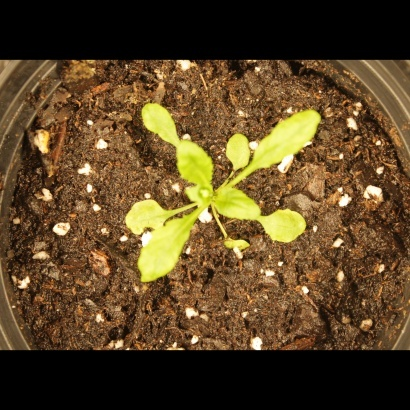leaf: (248, 104, 326, 173), (139, 216, 192, 286), (176, 136, 216, 193), (137, 98, 183, 147), (263, 204, 312, 247), (211, 187, 264, 225), (118, 199, 168, 235), (222, 129, 253, 174), (220, 232, 254, 260)
